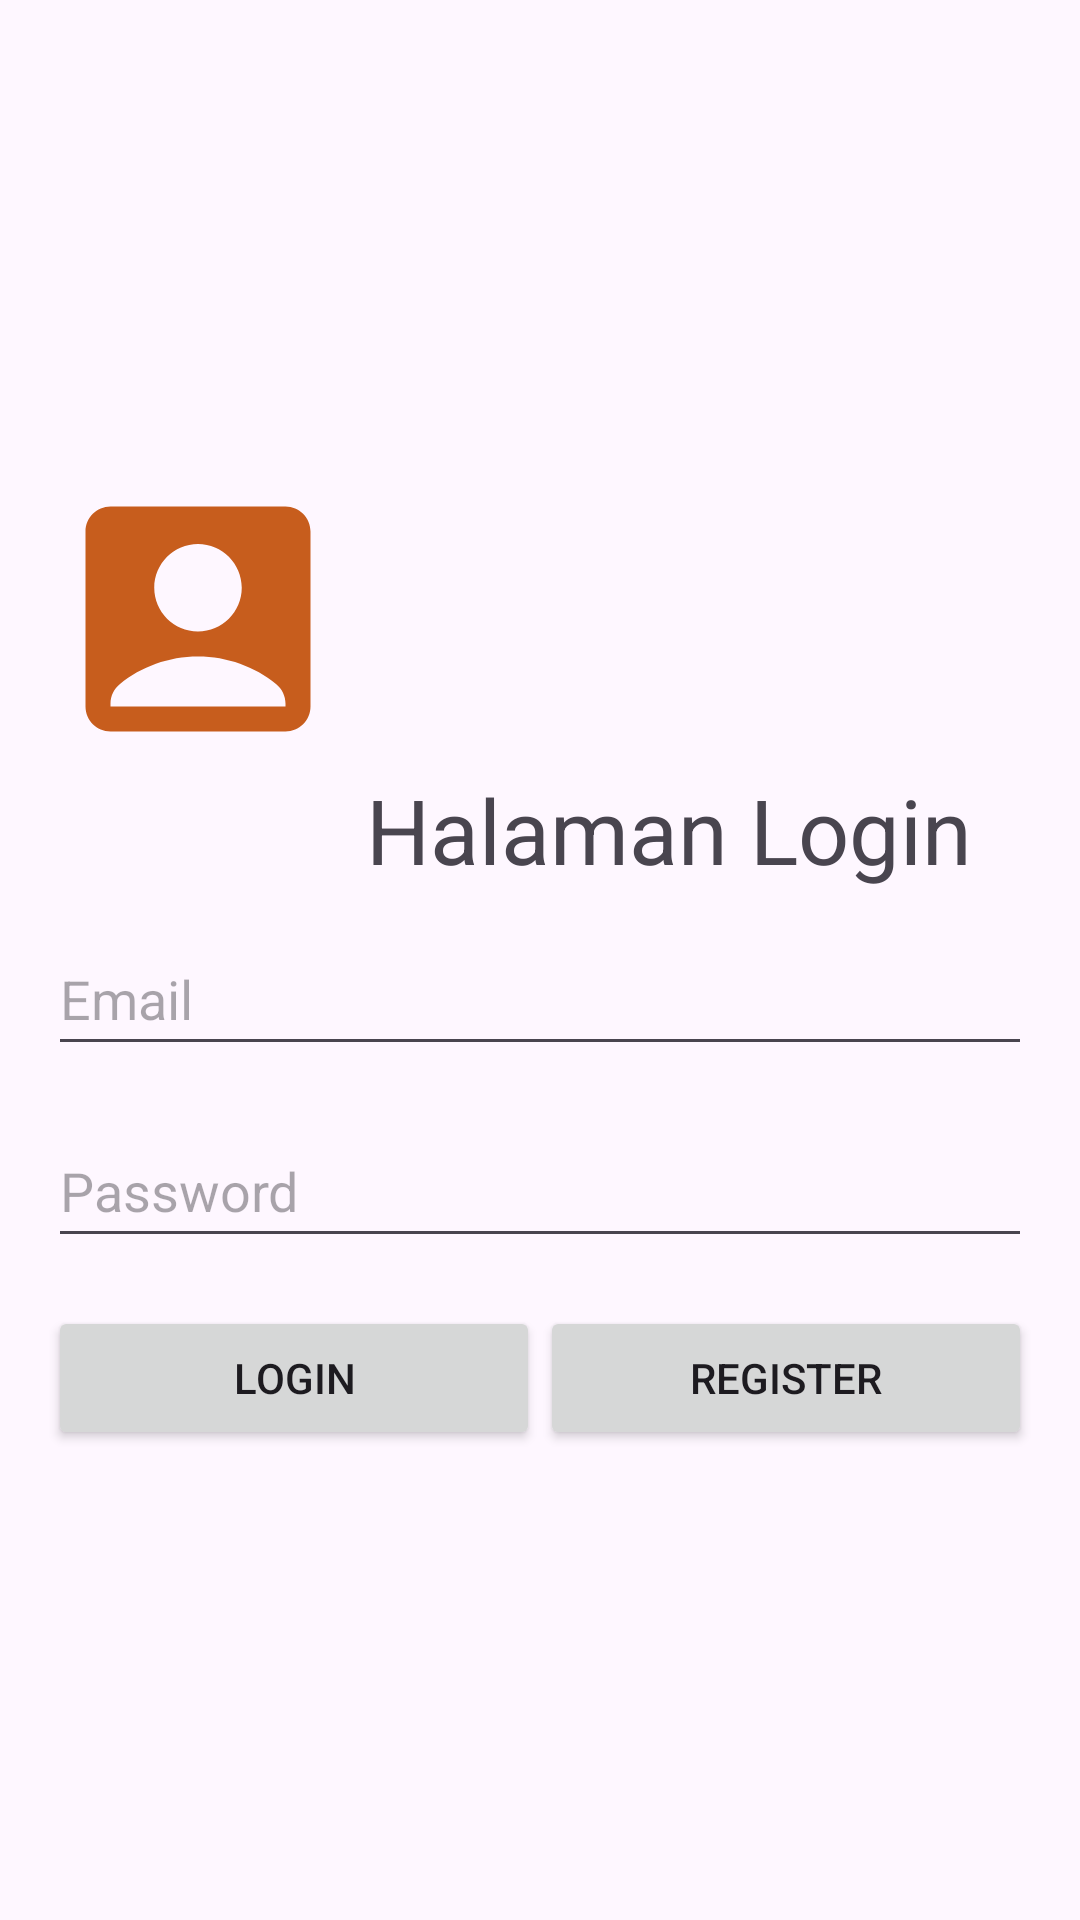

Icon bounding boxes for this 1080x1920 phone screenshot, format (x1, y1, x2, y2):
account box: (85, 506, 311, 732)
